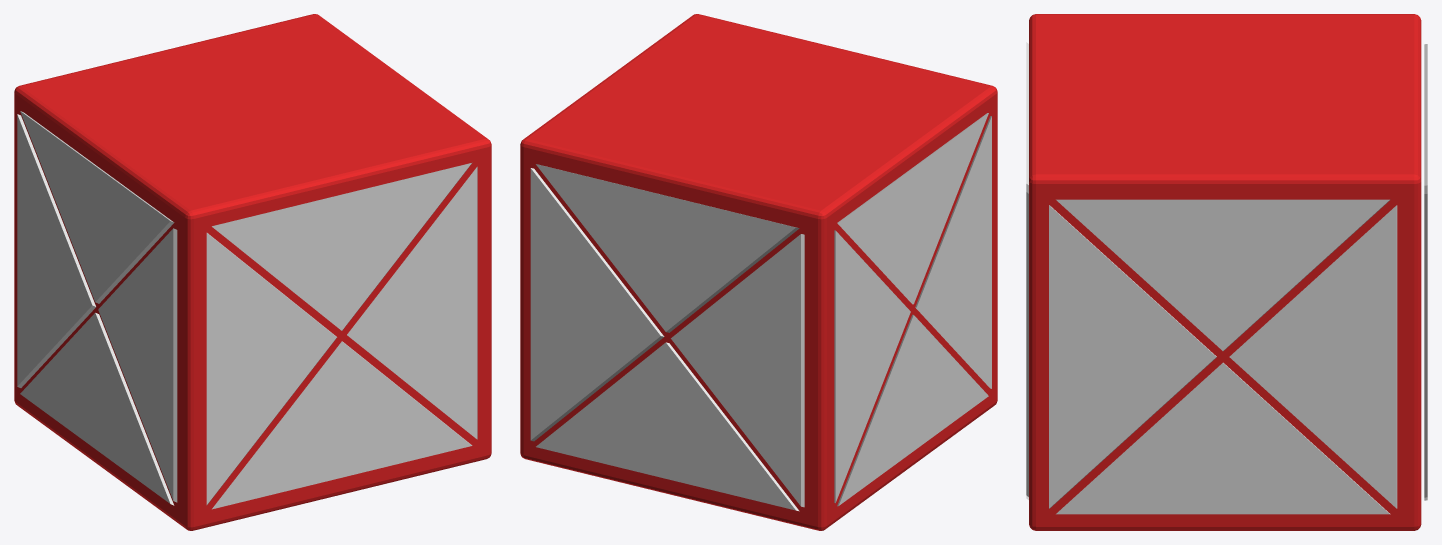
Rendered from SISO CA2 Sci-Fi Crate.fbx.
3 renders of one model, left to right at view 1: azimuth 30°, elevation 25°; view 2: azimuth 150°, elevation 25°; view 3: azimuth 270°, elevation 25°, orthographic. The views are drawn at different scales.
Visible parts, largest first — view 1: Cube, Plane.002, Plane.001; view 2: Cube, Plane, Plane.001; view 3: Plane.003, Cube, Plane, Plane.002.
Boxes of the visible parts, x1=… form: Cube: x1=14, y1=14, x2=491, y2=530; Plane.002: x1=206, y1=162, x2=477, y2=509; Plane.001: x1=17, y1=111, x2=177, y2=505; Cube: x1=520, y1=14, x2=997, y2=530; Plane: x1=530, y1=164, x2=804, y2=511; Plane.001: x1=834, y1=113, x2=991, y2=506; Plane.003: x1=1049, y1=199, x2=1397, y2=514; Cube: x1=1029, y1=14, x2=1421, y2=530; Plane: x1=1424, y1=44, x2=1427, y2=500; Plane.002: x1=1026, y1=42, x2=1028, y2=499.
Size of the model in its own units: 203 by 200 by 205.
